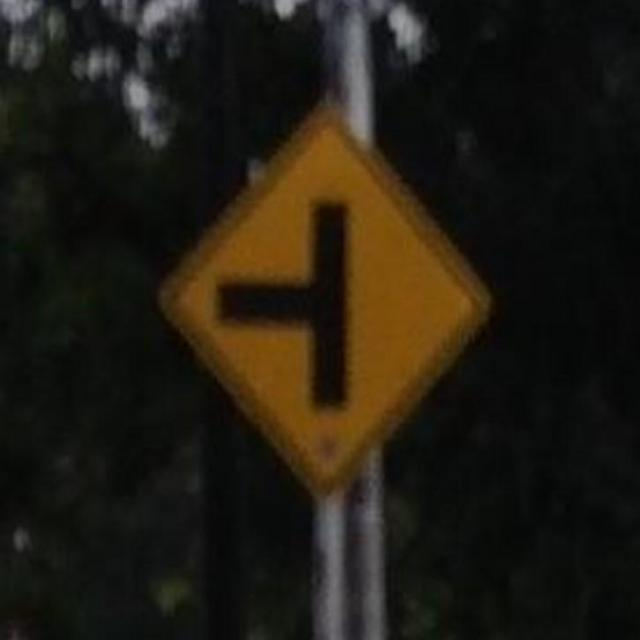traffic sign: (182, 127, 490, 490)
